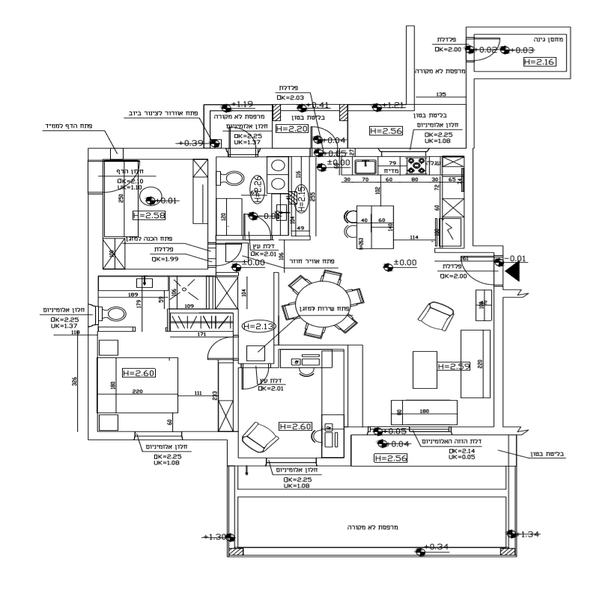door: (458, 248, 498, 286), (105, 158, 143, 196), (467, 32, 507, 66), (202, 334, 242, 364), (309, 124, 344, 158), (239, 362, 274, 395), (232, 124, 263, 157)
room: (342, 244, 507, 439), (75, 268, 240, 447), (308, 99, 475, 254), (77, 150, 216, 280), (227, 340, 355, 465), (210, 144, 317, 240)
wall: (82, 151, 101, 443), (464, 29, 476, 244), (494, 288, 511, 434), (99, 147, 229, 164), (94, 267, 217, 283), (204, 159, 217, 275), (458, 428, 530, 443), (258, 146, 312, 164), (185, 427, 237, 444)
window: (267, 454, 321, 474), (372, 424, 454, 436)
